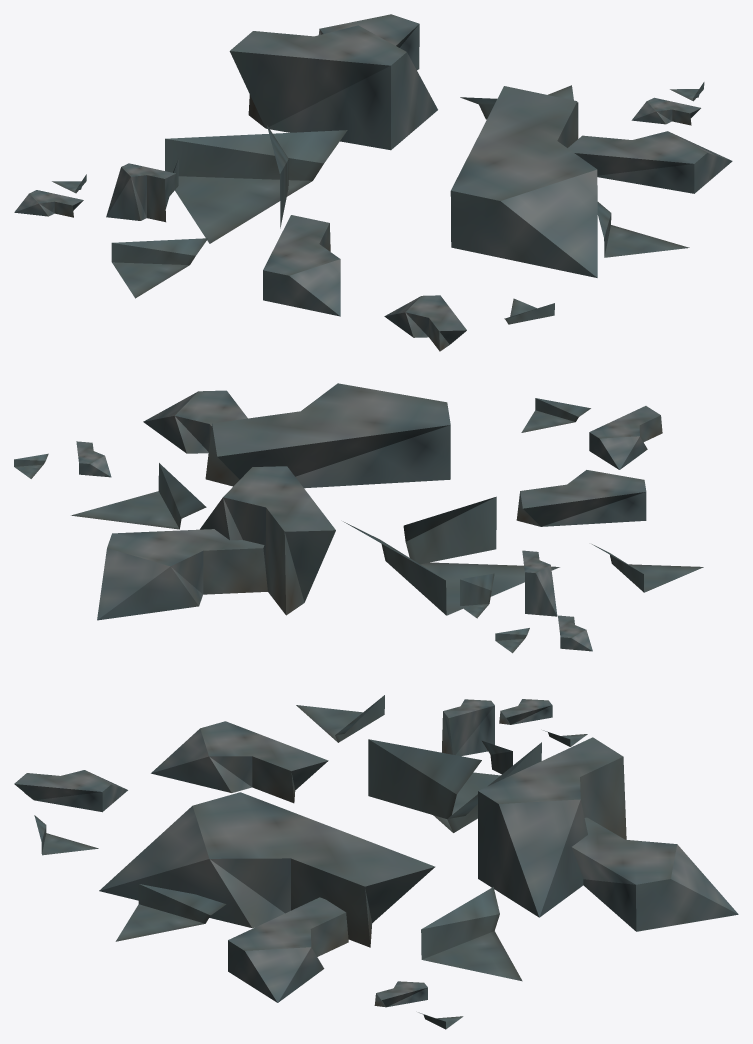
File: industrial_rubbleonlysmall01.glb
3 views of the same model, one above another, from view 1: azimuth 30°, elevation 25°; view 2: azimuth 150°, elevation 25°; view 3: azimuth 270°, elevation 25° (orthographic). The views are drawn at different scales.
Visible parts, largest first — view 1: Industrial_RubbleOnlySmall01; view 2: Industrial_RubbleOnlySmall01; view 3: Industrial_RubbleOnlySmall01.
Boxes of the visible parts, x1=… form: Industrial_RubbleOnlySmall01: x1=14, y1=14, x2=732, y2=351; Industrial_RubbleOnlySmall01: x1=14, y1=383, x2=703, y2=653; Industrial_RubbleOnlySmall01: x1=14, y1=695, x2=738, y2=1029.
Bounding box in the file's own units: 4.23 × 0.5242 × 3.92.
1 material, 1 textured.
